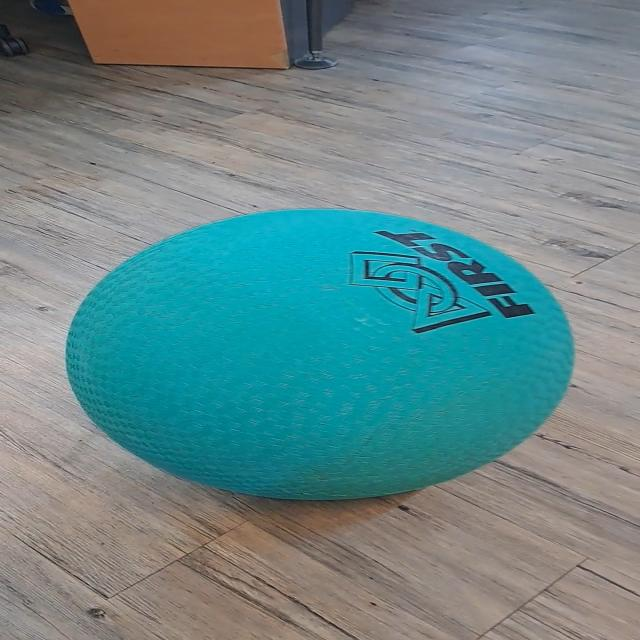ALGAE: (62, 206, 577, 502)
